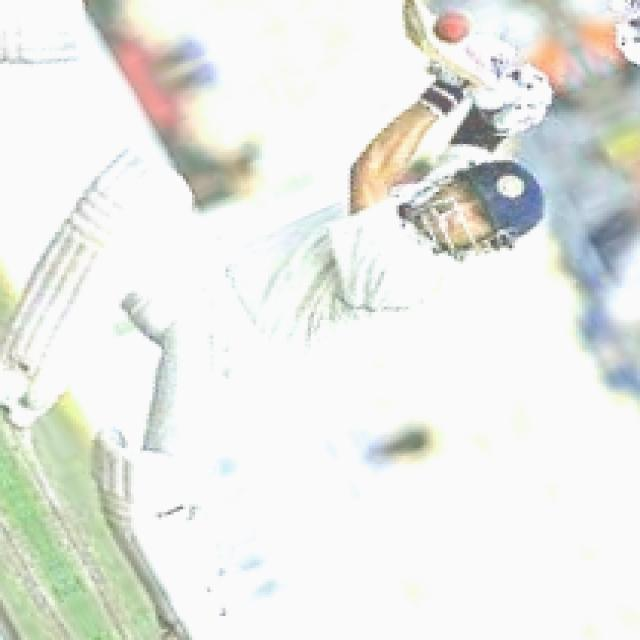bat: (395, 0, 551, 89)
toe: (400, 0, 430, 48)
